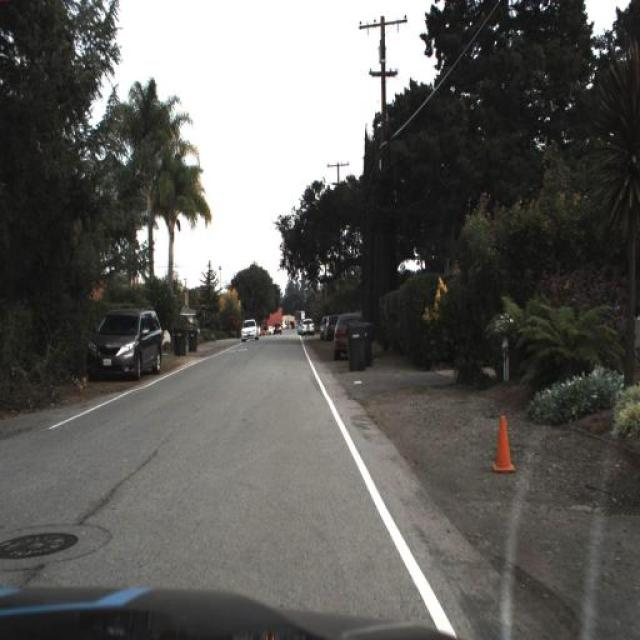car: (83, 301, 166, 387), (332, 312, 366, 361), (335, 311, 370, 358), (240, 316, 261, 342)
